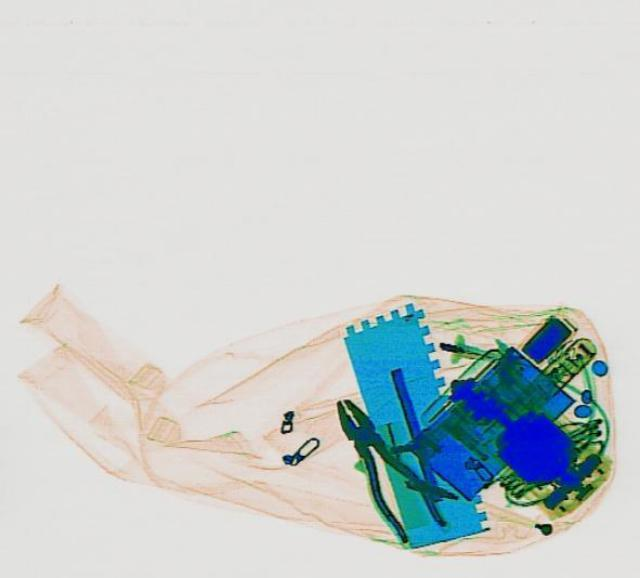Pliers: (314, 387, 448, 542)
